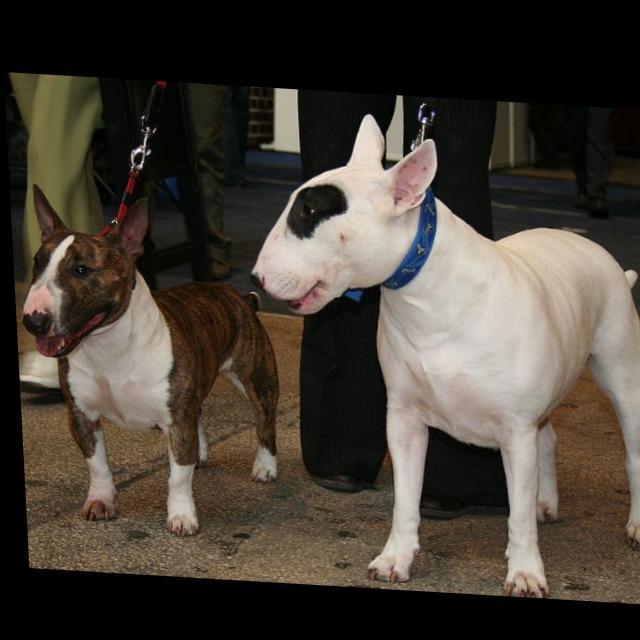bullterrier: (241, 104, 640, 599), (9, 183, 284, 542)
